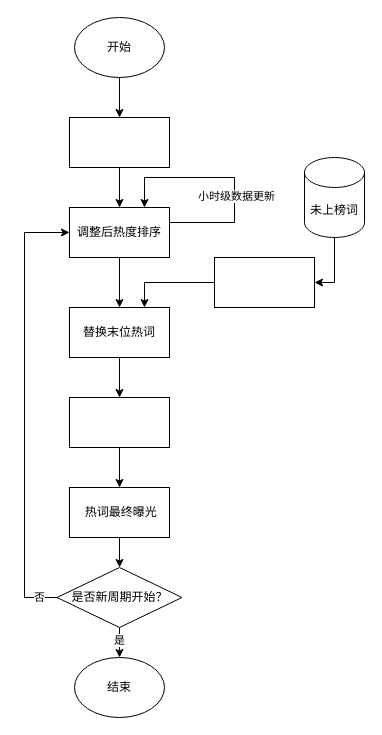
Some shapes in this 382 by 735 pixel diagram are drawn without their labels. Here are the shapes that lost their labels. From the top down, the box of each, then its label:
(68, 116, 170, 168): 初始热度排序
(214, 256, 314, 308): 挑选替换词
(68, 396, 170, 448): 运营策略调整
